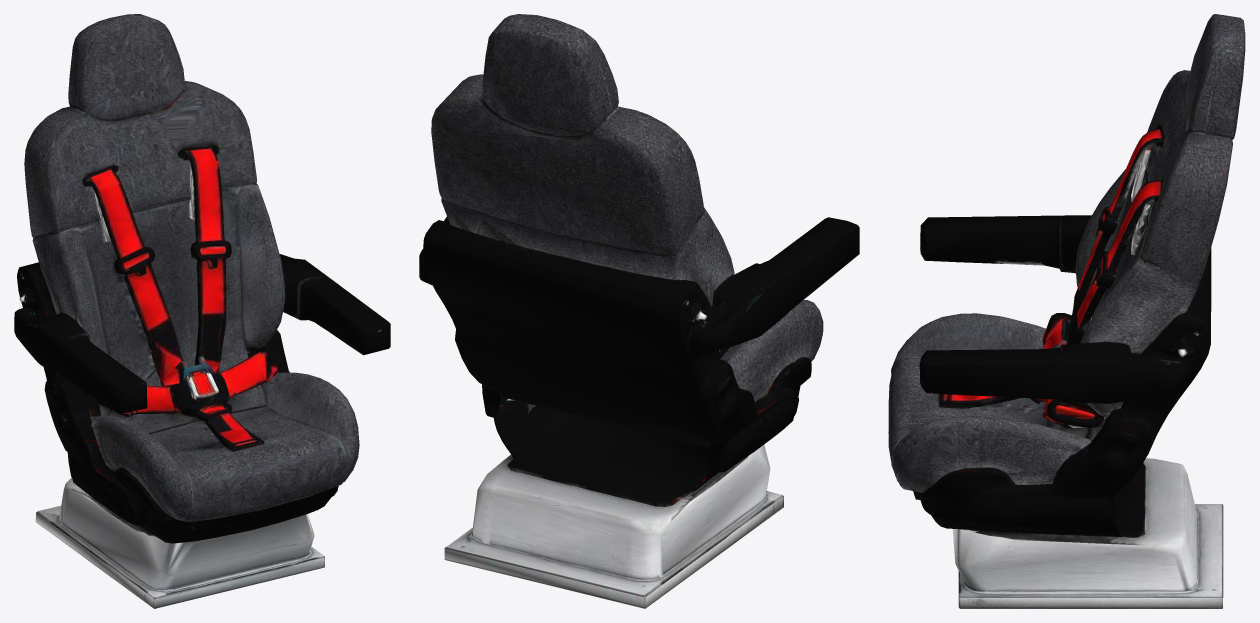
File: seat.glb
3 renders of one model, left to right at view 1: azimuth 30°, elevation 25°; view 2: azimuth 150°, elevation 25°; view 3: azimuth 270°, elevation 25°, orthographic. The views are drawn at different scales.
Visible parts, largest first — view 1: seat; view 2: seat; view 3: seat.
Part boxes in pixels (x1,y1,x2,y2): seat: (14,14,390,608); seat: (419,14,859,608); seat: (888,14,1245,608).
Bounding box in the file's own units: 0.5924 × 1 × 0.6016.
Materials: 1 (1 with a texture image).
